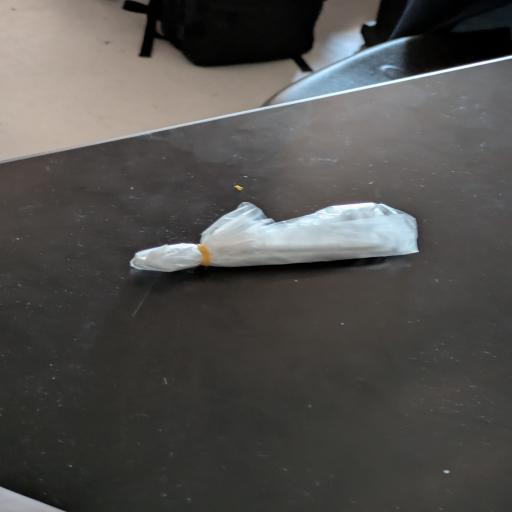rubberband: (124, 199, 423, 275)
